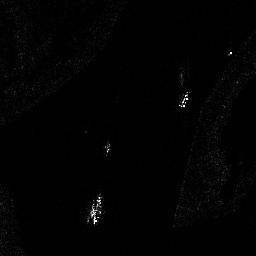ship: (179, 89, 189, 108)
